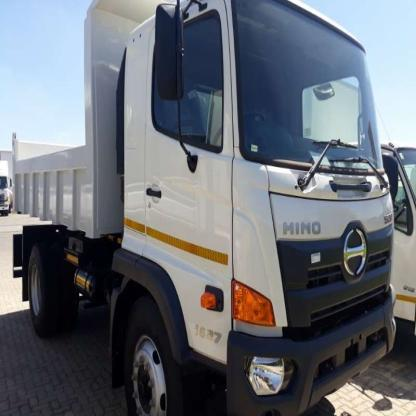dump_truck: (2, 4, 400, 415)
